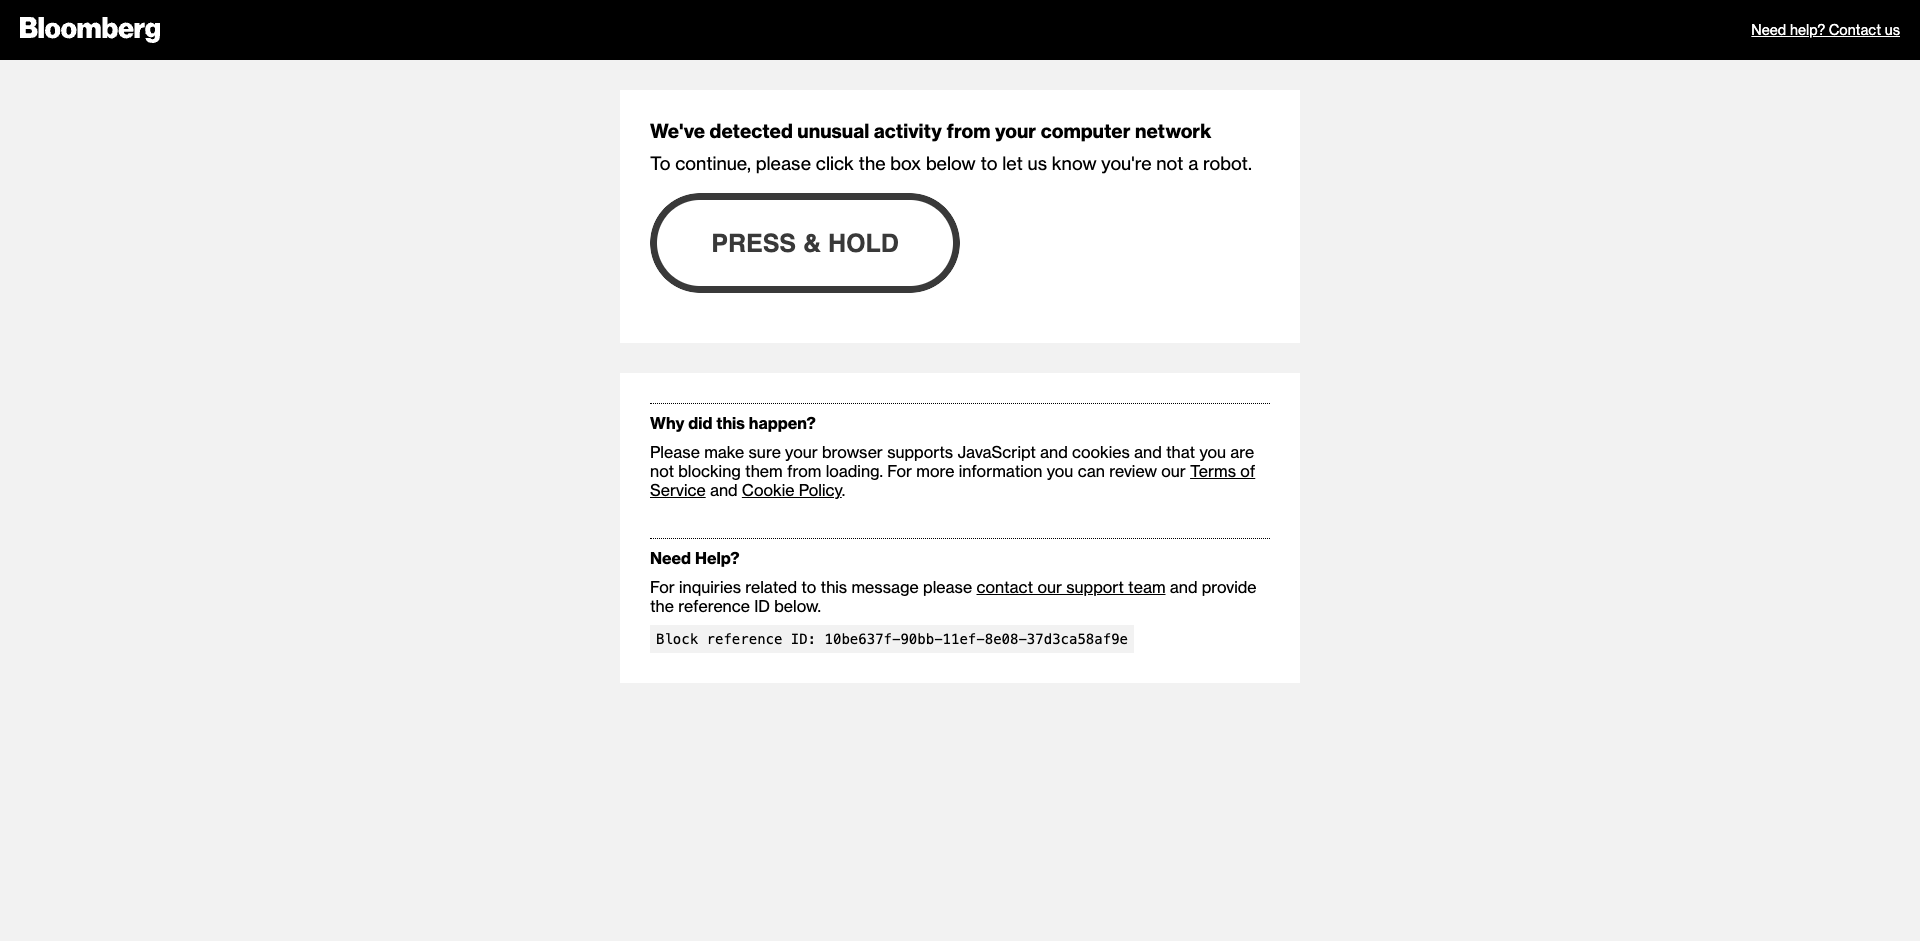link: (650, 461, 1255, 499), (1751, 0, 1900, 60), (976, 577, 1166, 597), (742, 480, 841, 499)
